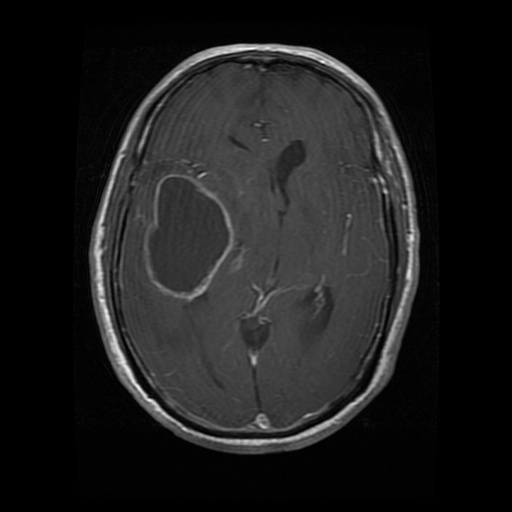glioma: (141, 171, 233, 301)
